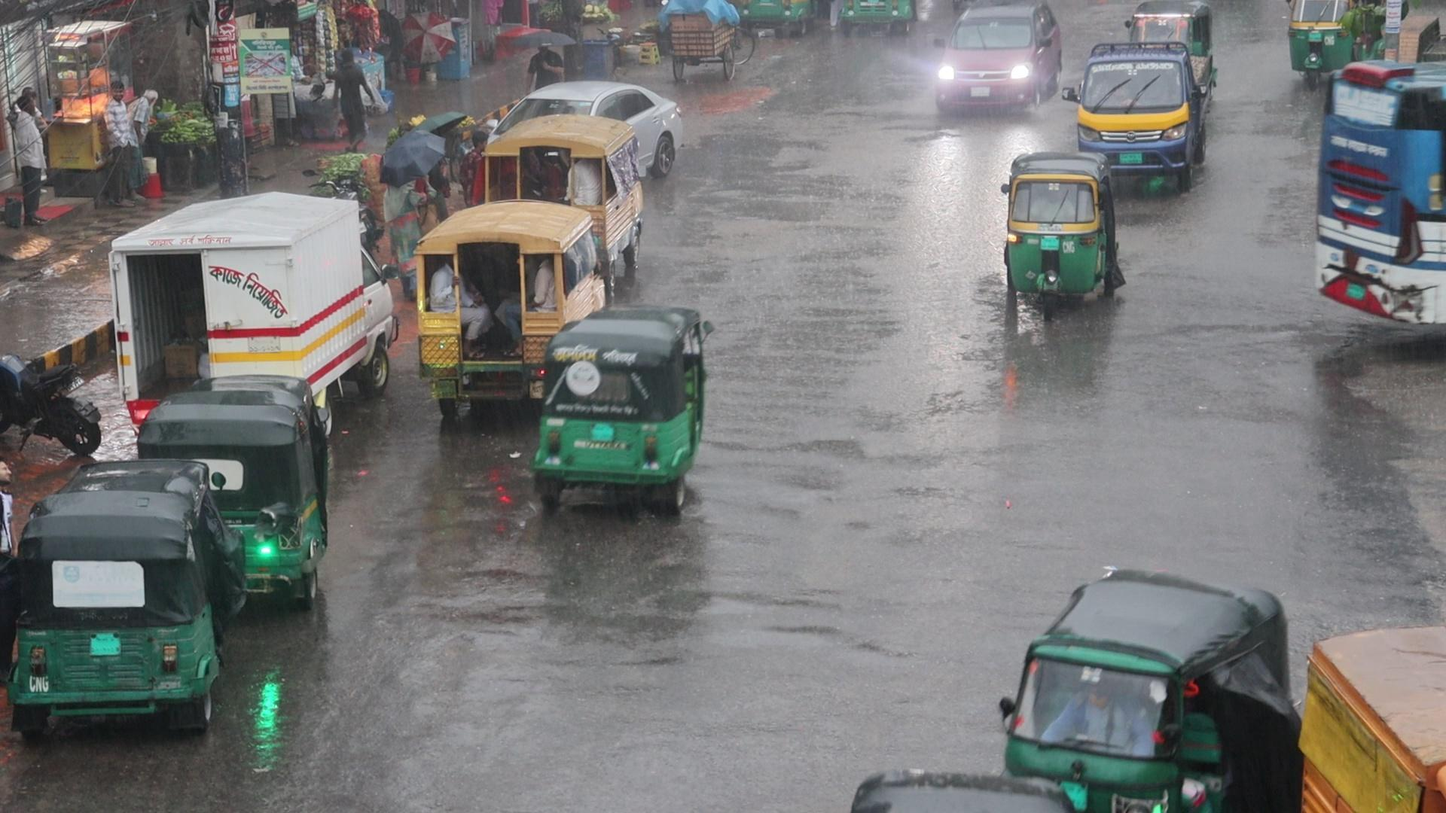Car: (931, 2, 1060, 112)
Truck: (1082, 40, 1214, 169)
